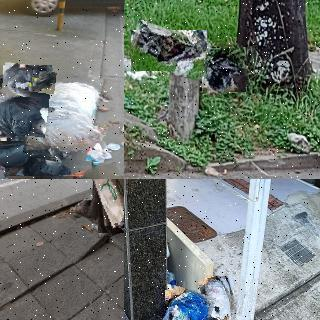Garbage: (26, 72, 112, 161), (129, 25, 209, 76), (0, 93, 50, 144), (200, 44, 249, 95), (2, 64, 53, 98), (93, 179, 124, 234), (201, 274, 238, 320), (161, 287, 212, 320)
